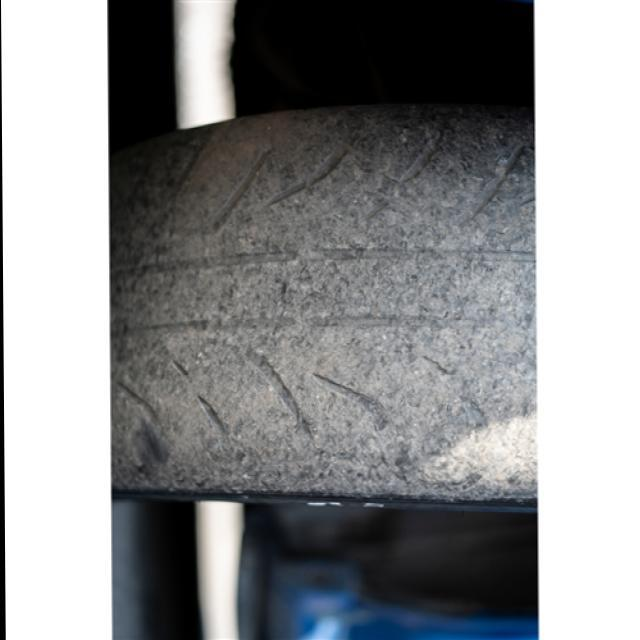Flat spots: (109, 146, 538, 476)
